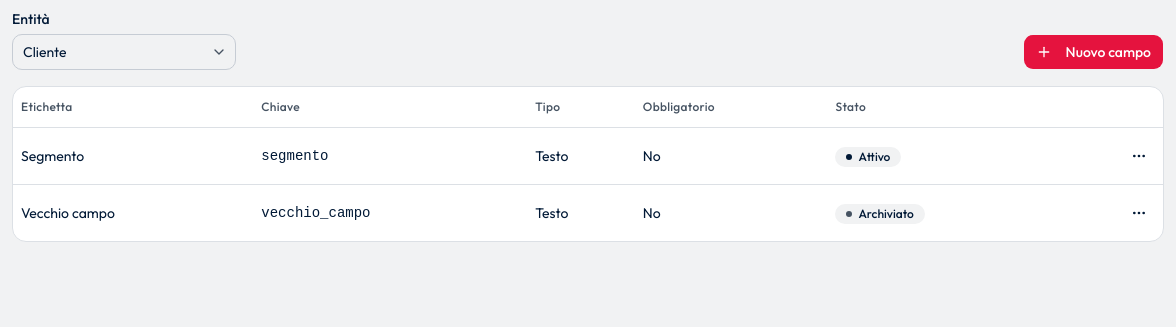
FieldsPanel › shows an archived field with a visible status and a way to restore it, not just the active ones
Expected: the text "Vecchio campo" is shown, [13,184,253,240]
Click the button named "Azioni per Vecchio campo".
click(1139, 212)  # box [1123,196,1155,228]
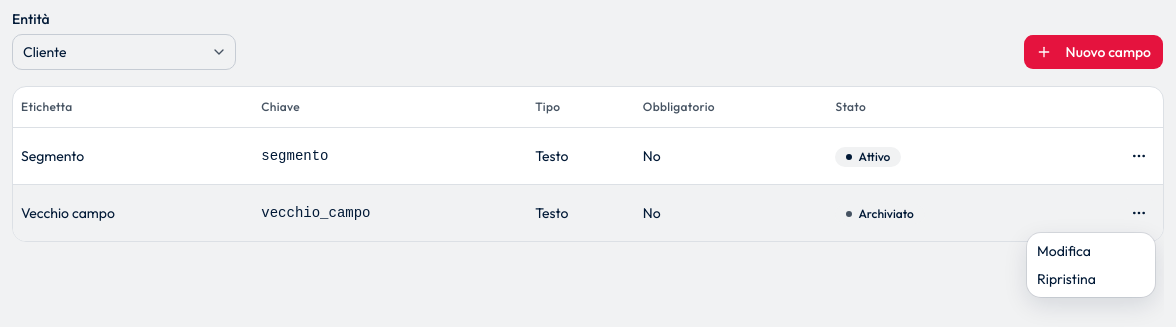
Expected: the menu item "Ripristina" is shown, [1037,270,1096,288]
